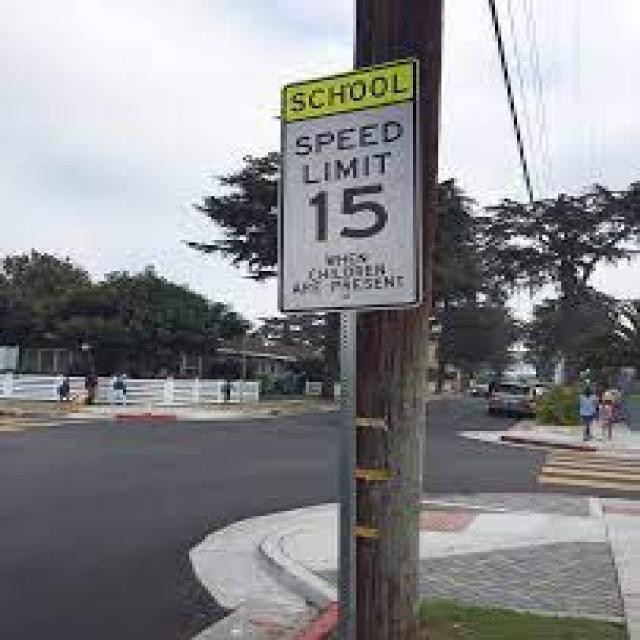speedLimit15: (271, 89, 423, 246)
